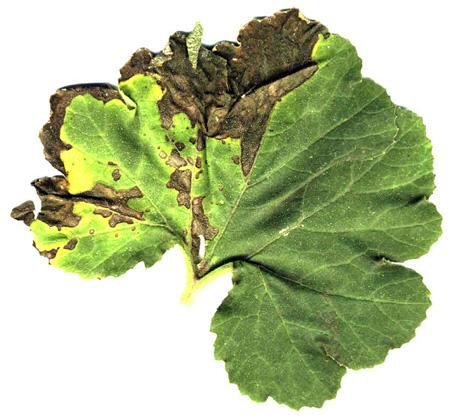Tomato leaf late blight: (20, 7, 325, 280)
